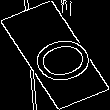O_NE: (13, 24, 97, 86)
